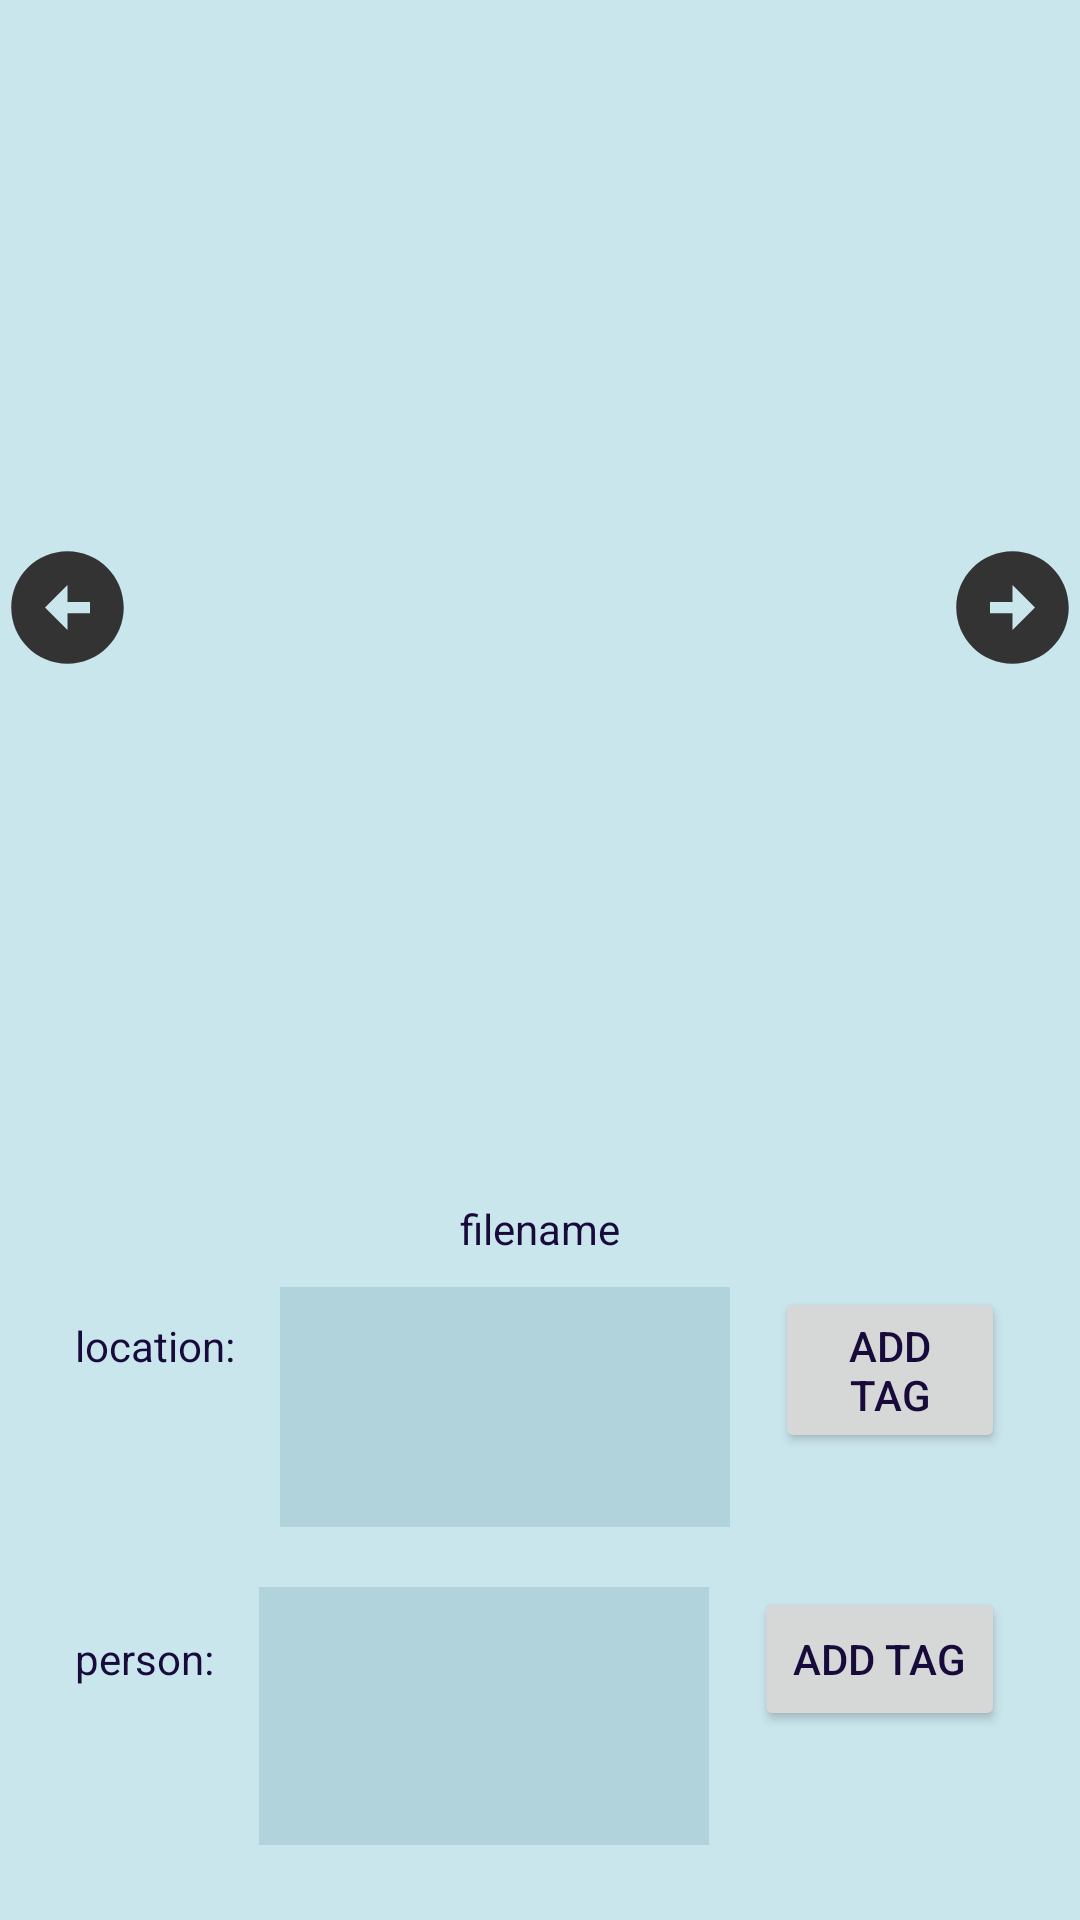

Named icons in this screenshot (1080px×1920px) and their bounding boxes, (x1, y1, x2, y2):
next: (956, 551, 1069, 664)
previous: (11, 551, 124, 664)
